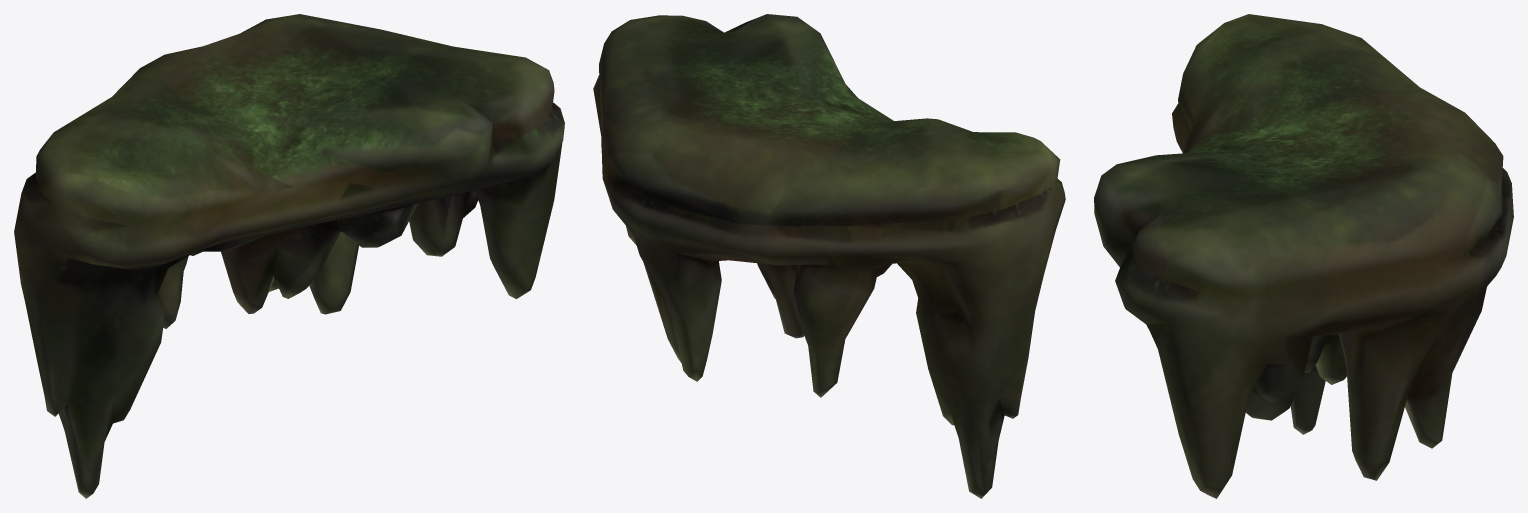
The model's file is FlatingPlat2.fbx.
3 views of the same model, side by side, from view 1: azimuth 30°, elevation 25°; view 2: azimuth 150°, elevation 25°; view 3: azimuth 270°, elevation 25° (orthographic). The views are drawn at different scales.
Parts seen in each view (by area): view 1: FlotingPlat.001; view 2: FlotingPlat.001; view 3: FlotingPlat.001.
Part boxes in pixels (x1,y1,x2,y2): FlotingPlat.001: [14, 14, 564, 498]; FlotingPlat.001: [593, 14, 1065, 498]; FlotingPlat.001: [1094, 14, 1513, 498].
Bounding box in the file's own units: 21.54 × 15.53 × 14.08.
1 material, 1 textured.
